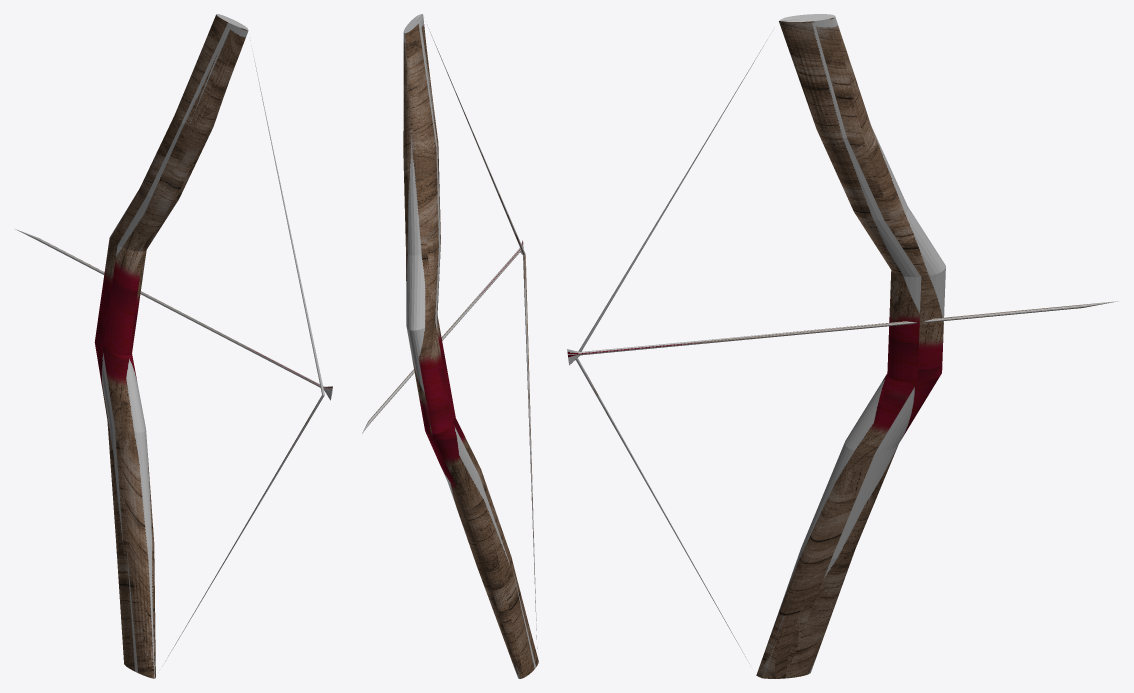
File: Arco9.obj
The picture shows the model from 3 angles, left to right: view 1: azimuth 30°, elevation 25°; view 2: azimuth 150°, elevation 25°; view 3: azimuth 270°, elevation 25°; orthographic projection. The views are drawn at different scales.
Visible parts, largest first — view 1: Cilindro; view 2: Cilindro; view 3: Cilindro.
Part boxes in pixels (<box>): Cilindro: <box>15,14,332,678</box>; Cilindro: <box>362,14,538,678</box>; Cilindro: <box>567,14,1117,678</box>.
Bounding box in the file's own units: 0.1886 × 0.9705 × 0.6791.
1 material, 1 textured.
